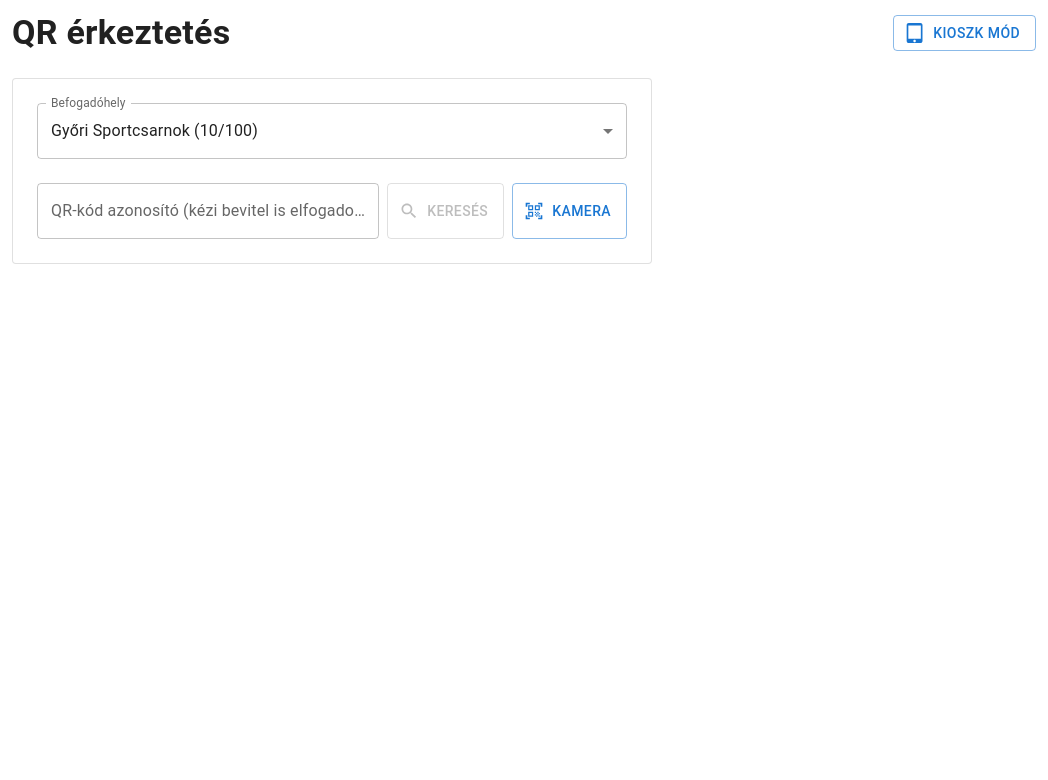
Test: QrCheckInPage › megerősítéskor a kiválasztott befogadóhelyre, a beírt azonosítóval és ágyszámmal érkezteti a személyt
In the field labelled "QR-kód azonosító (kézi bevitel is elfogadott)": (208, 211) [37,183,379,239], type "PUB-123"
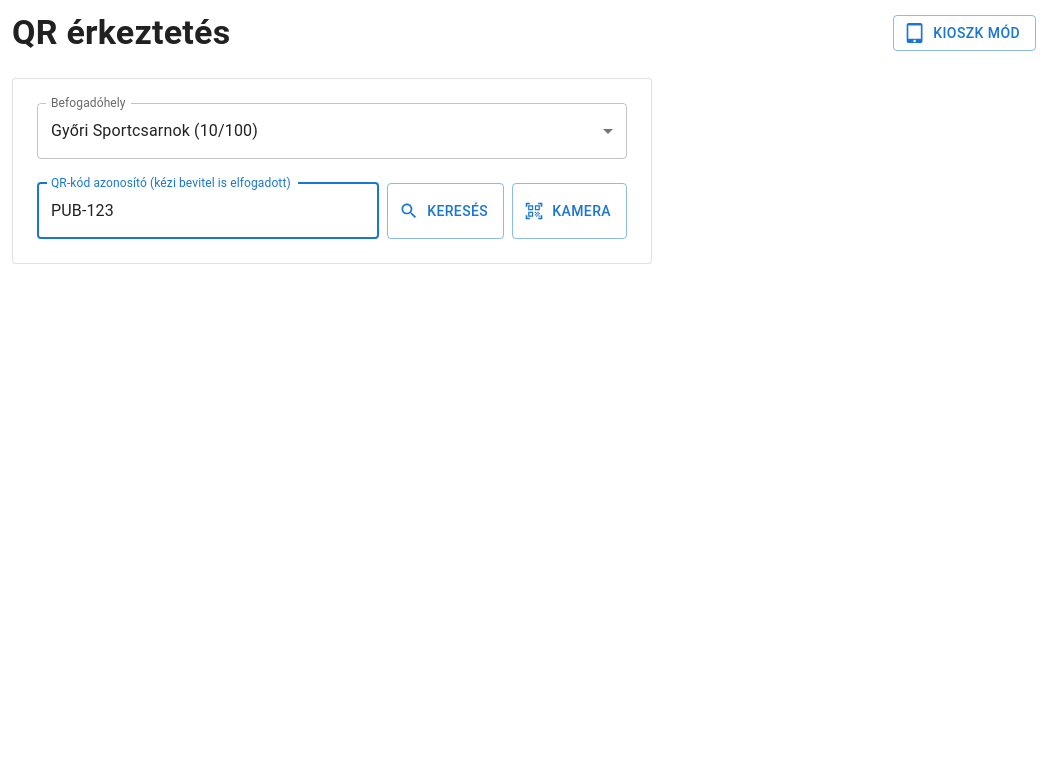
Click the button "Keresés": (446, 211) [387,183,504,239]
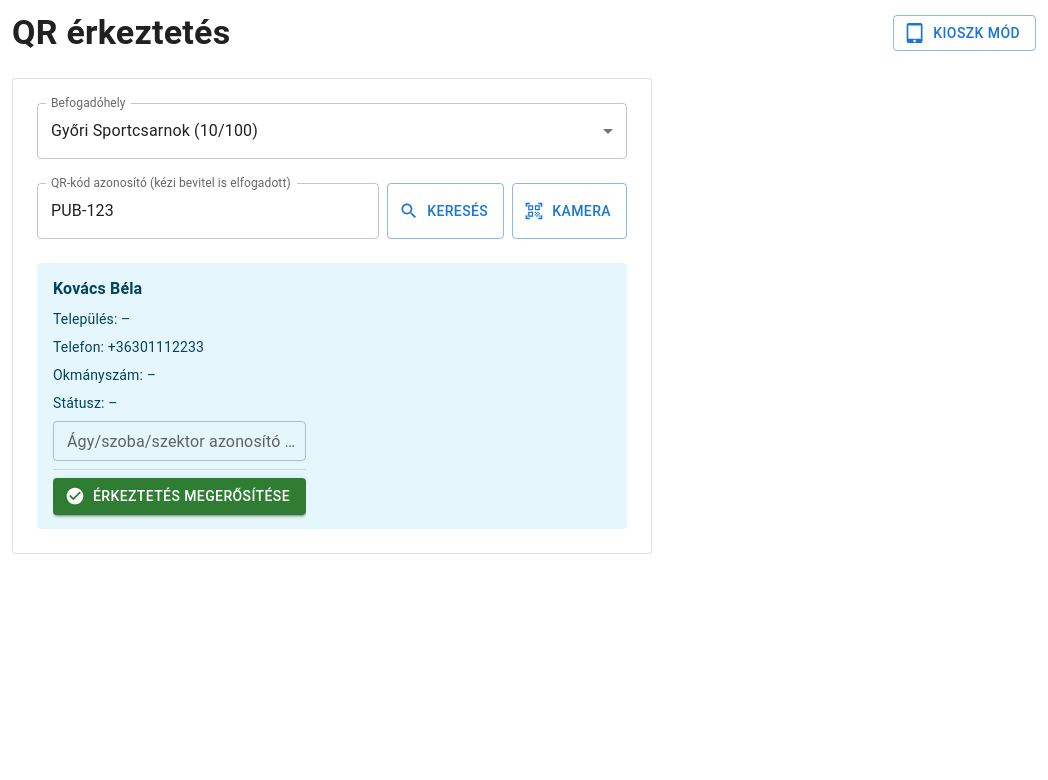
Expected: the text "Kovács Béla" is shown, [53,279,142,298]
In the field labelled "Ágy/szoba/szektor azonosító (opcionális)": (180, 441) [53,421,306,461], type "A terem, 5. ágy"
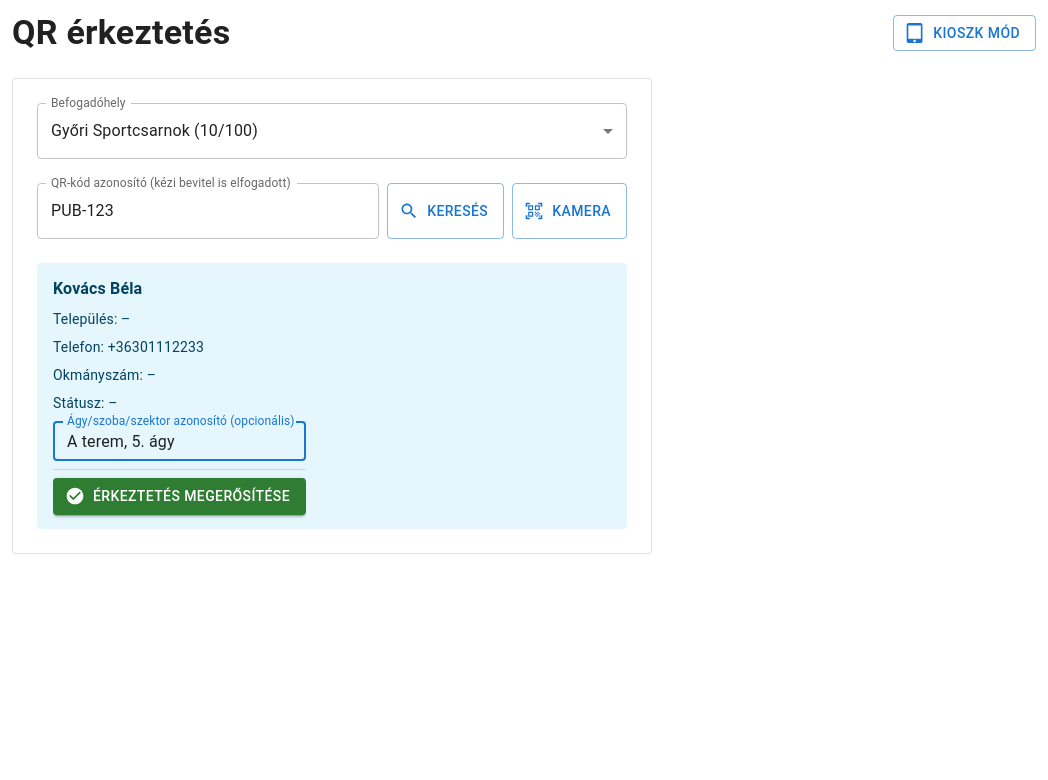
Click the button "Érkeztetés megerősítése": (180, 496) [53,478,306,514]
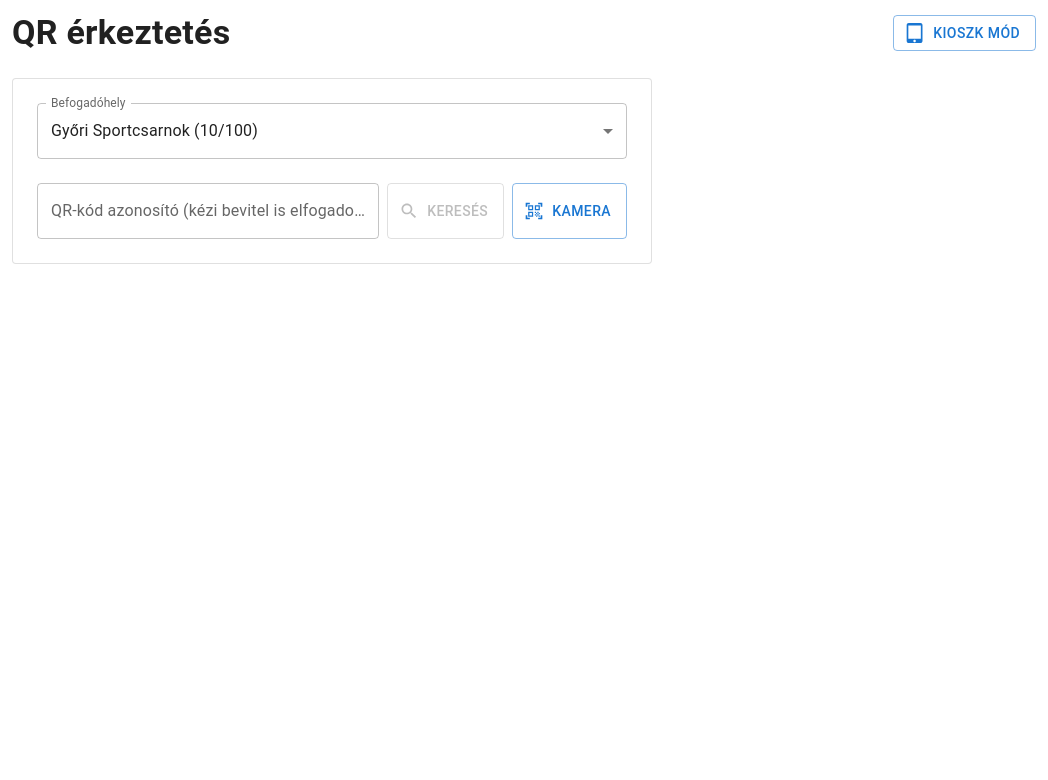
Expected: the text "Kovács Béla" is gone
